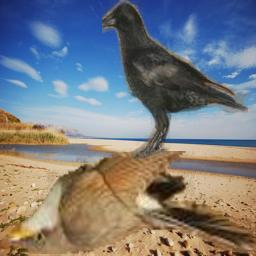Crow: (102, 0, 248, 159)
Cuckoo: (0, 151, 256, 254)
